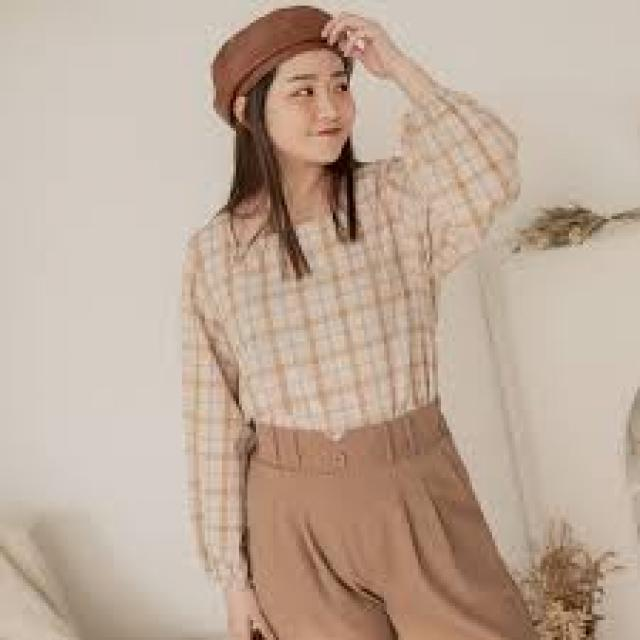plaid: (135, 161, 510, 427)
